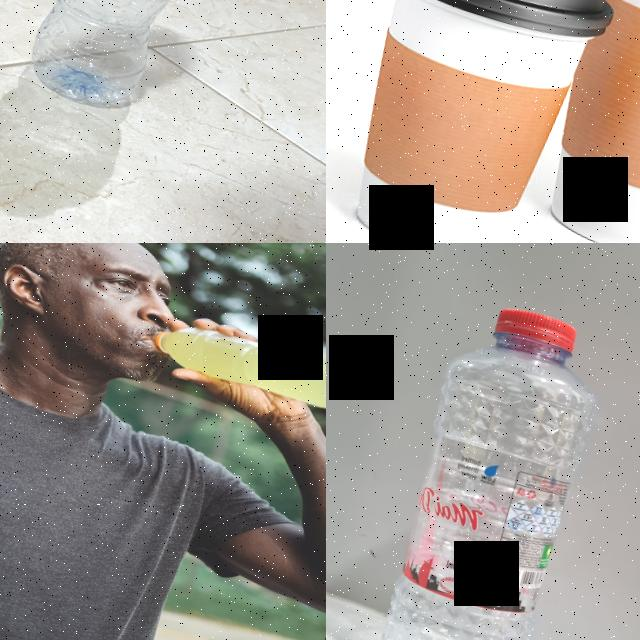bottle: (349, 289, 627, 640), (15, 0, 256, 125), (147, 309, 326, 422)
cup: (326, 0, 629, 243), (494, 0, 640, 243)
